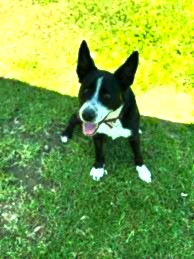dog: (56, 39, 157, 184)
